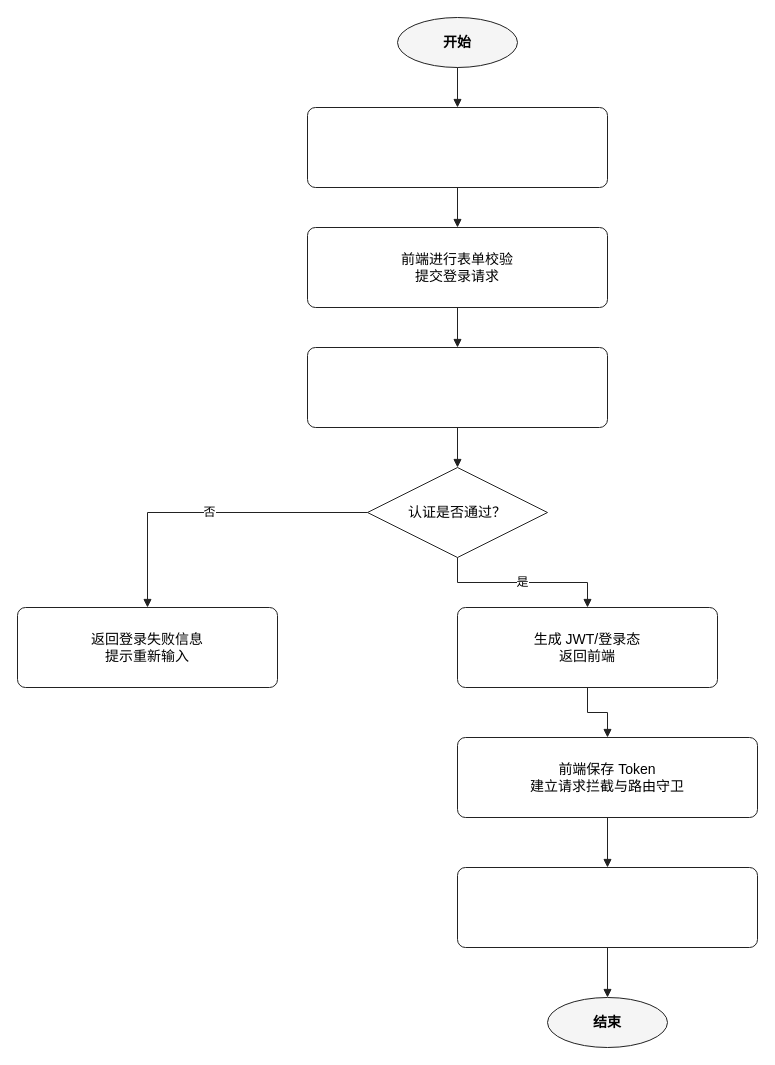
This 775x1065 diagram has some shape labels left out. Each missing label, with the centre of its shape:
"后端校验账号状态、密码 并识别用户角色" goes at (457,387).
"根据角色控制页面访问 并放行业务接口" goes at (607,907).
"用户或管理员输入 邮箱/账号与密码" goes at (457,147).
